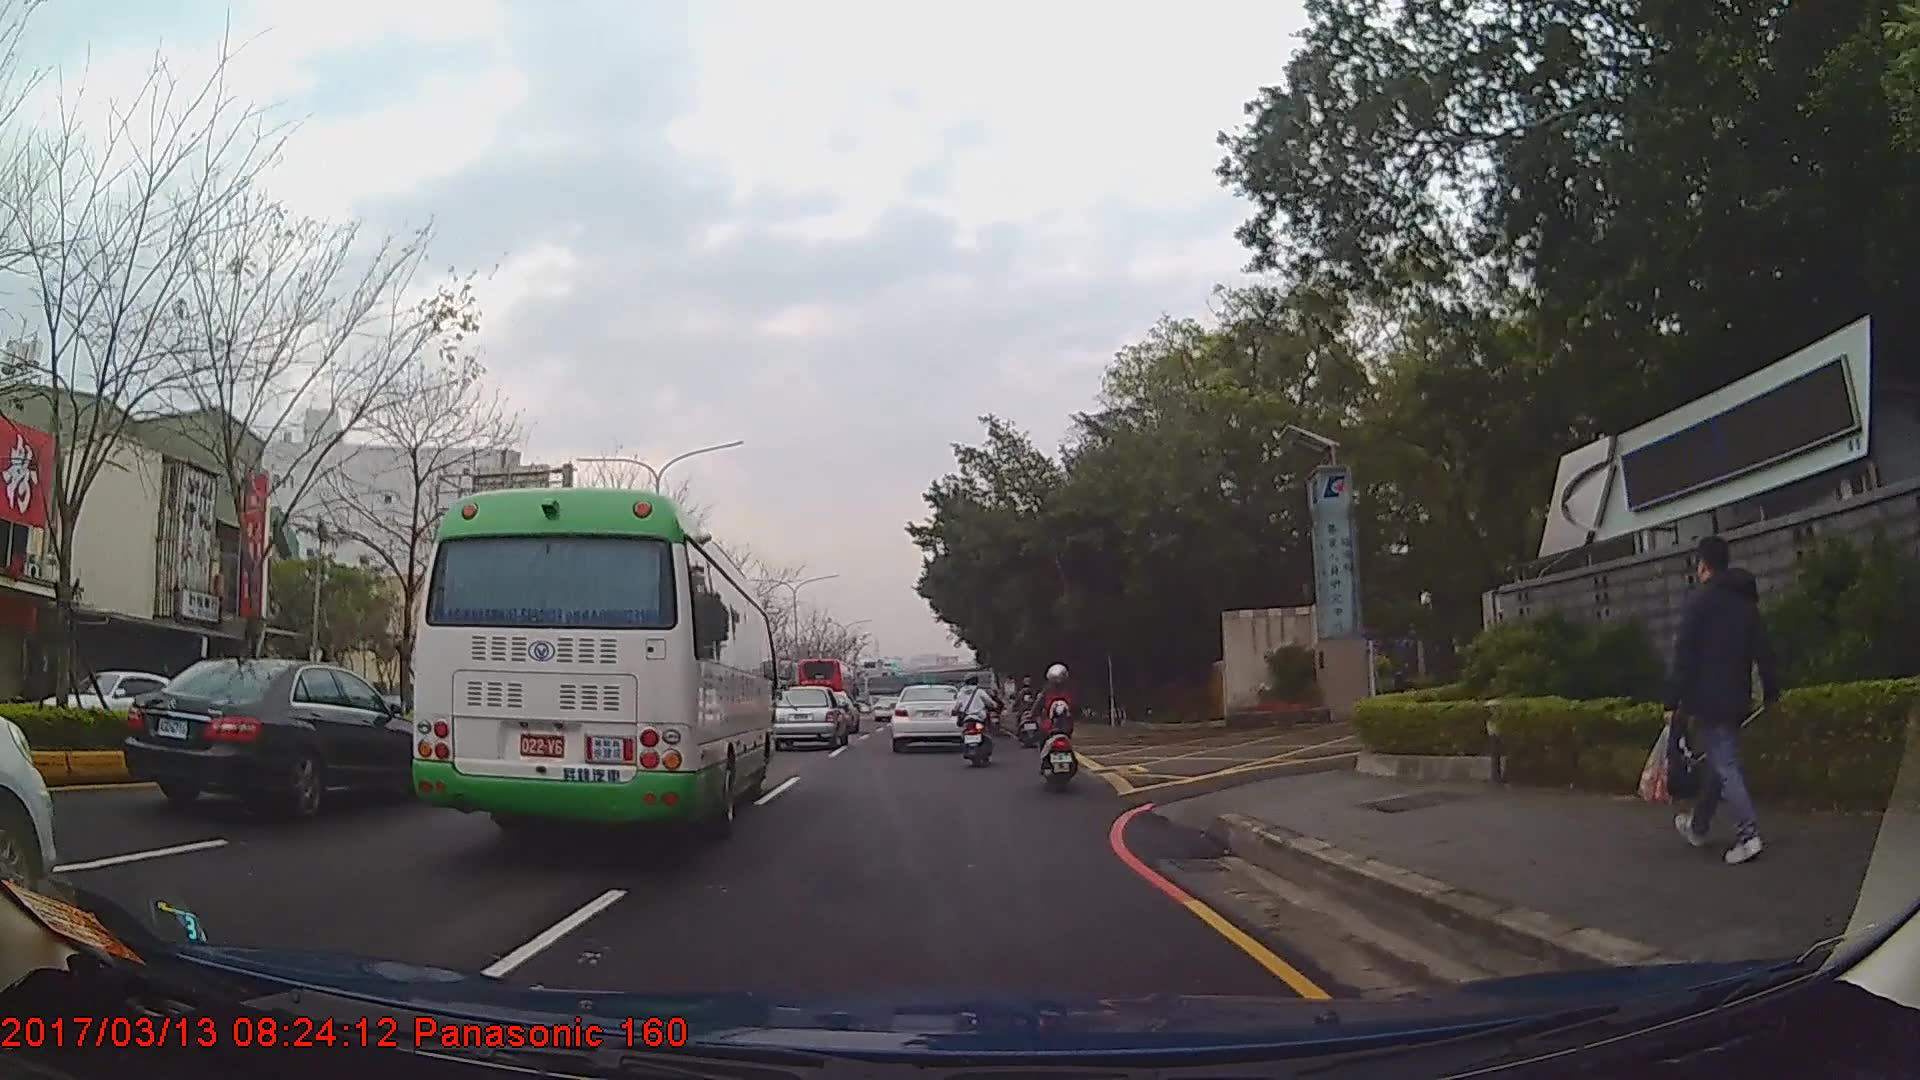pedestrian: (1642, 543, 1788, 857)
rider: (1038, 668, 1081, 793), (952, 677, 994, 772), (1014, 677, 1043, 751)
vehicle: (401, 488, 774, 849), (122, 656, 442, 824), (31, 664, 192, 744), (889, 682, 967, 753), (773, 683, 849, 750), (794, 656, 855, 719)
